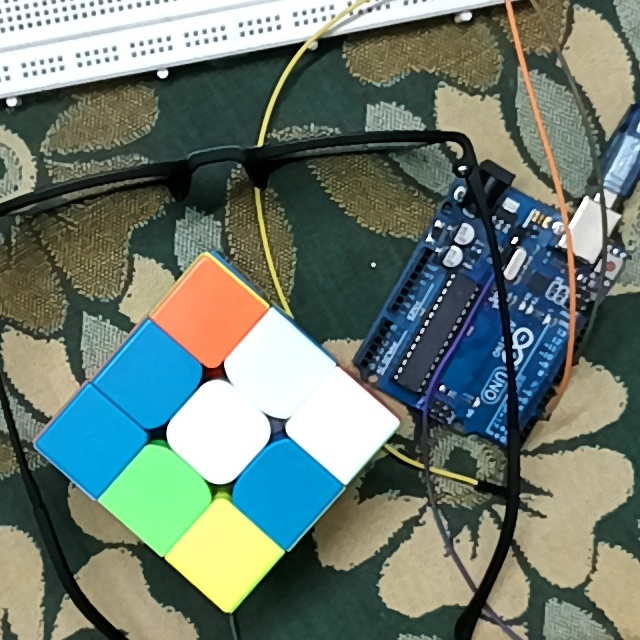tile: (129, 469, 190, 528), (247, 340, 309, 397), (189, 402, 248, 459), (313, 398, 373, 452), (182, 285, 239, 341), (257, 465, 314, 520), (201, 527, 256, 584), (124, 352, 181, 406), (64, 415, 119, 469)
